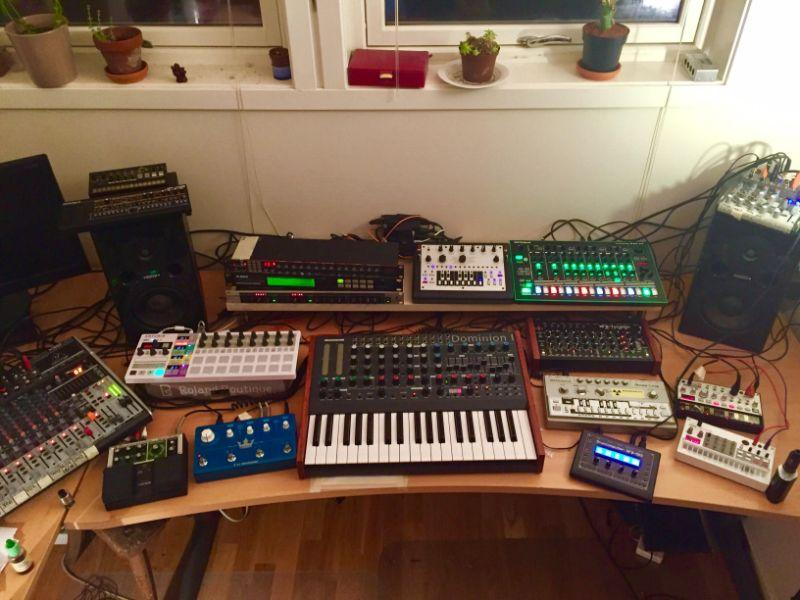synthesizer: (305, 333, 537, 474)
